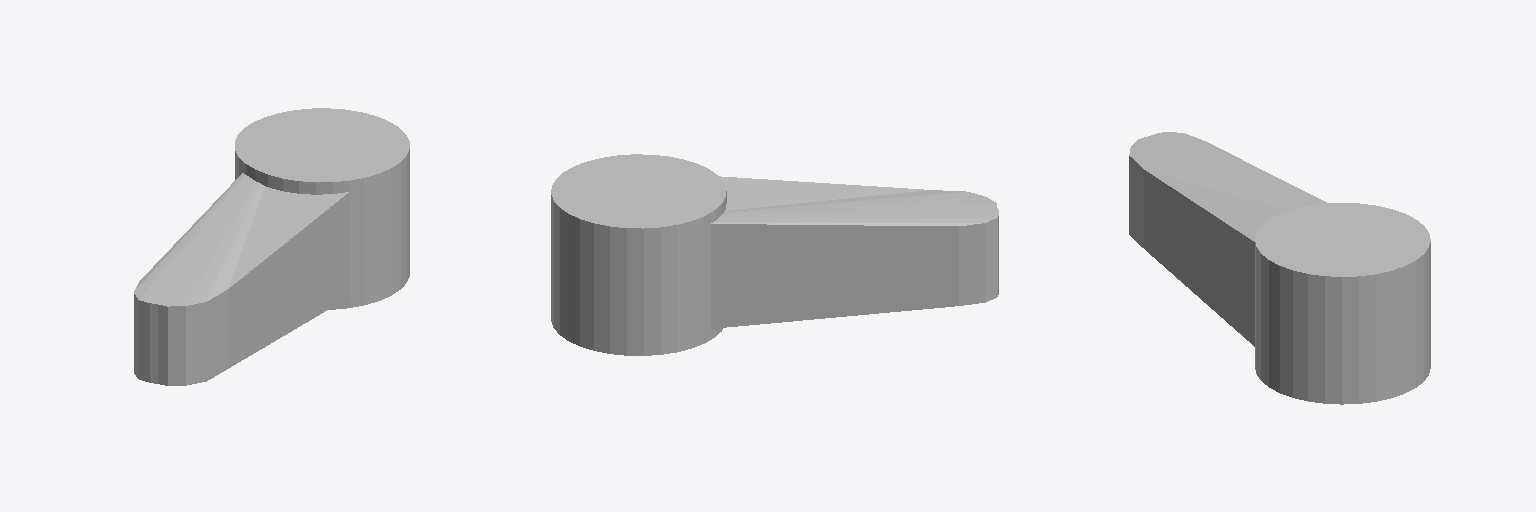
File: rightflipper.obj
3 views of the same model, side by side, from view 1: azimuth 30°, elevation 25°; view 2: azimuth 150°, elevation 25°; view 3: azimuth 270°, elevation 25° (orthographic).
Visible parts, largest first — view 1: Cube.005_Cube.016; view 2: Cube.005_Cube.016; view 3: Cube.005_Cube.016.
Part boxes in pixels (x1,y1,x2,y2): Cube.005_Cube.016: (134, 108, 409, 385); Cube.005_Cube.016: (551, 154, 998, 355); Cube.005_Cube.016: (1129, 132, 1430, 404).
Bounding box in the file's own units: 3.05 × 1.07 × 2.29.